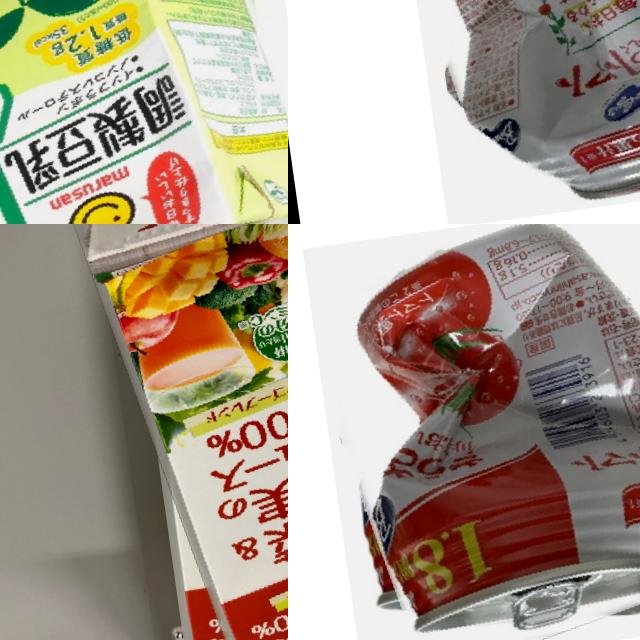Aluminium Foil: (86, 224, 288, 640), (0, 0, 288, 224)
Can: (303, 224, 640, 640), (392, 0, 640, 224)
